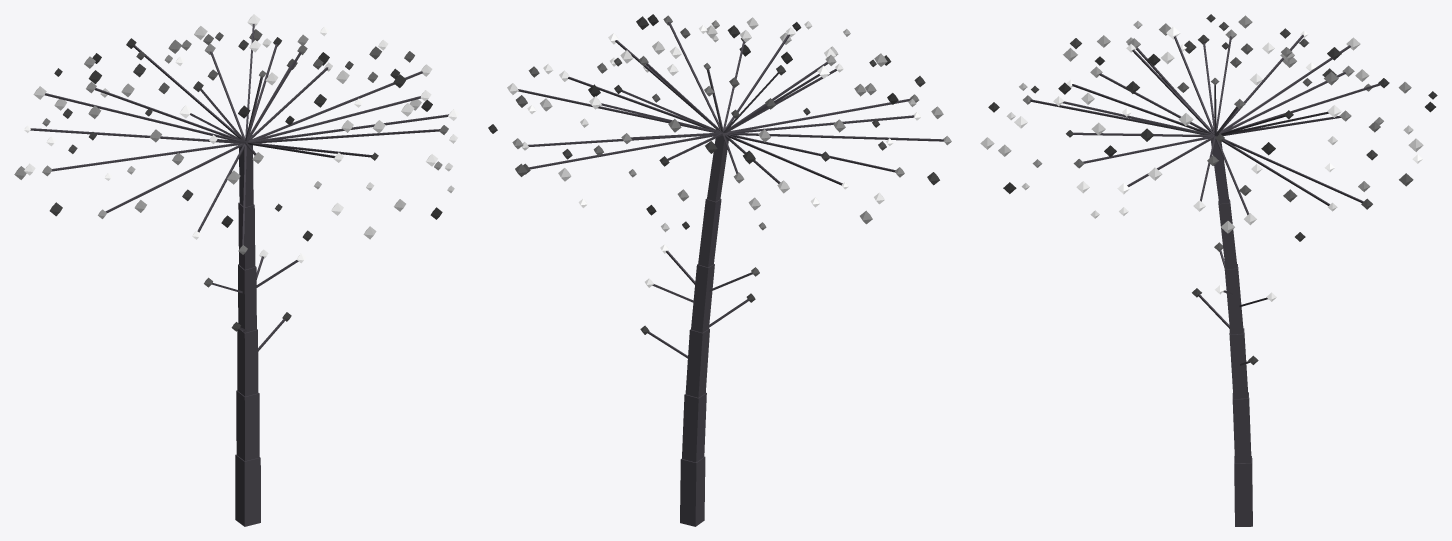
File: umbel_tree_b.glb
3 renders of one model, left to right at view 1: azimuth 30°, elevation 25°; view 2: azimuth 150°, elevation 25°; view 3: azimuth 270°, elevation 25°, orthographic. The views are drawn at different scales.
Visible parts, largest first — view 1: umbel_tree_b; view 2: umbel_tree_b; view 3: umbel_tree_b.
Part boxes in pixels (<box>): umbel_tree_b: <box>14,14,459,526</box>; umbel_tree_b: <box>488,14,951,526</box>; umbel_tree_b: <box>980,14,1437,526</box>.
Size of the model in its own units: 7.72 by 8.58 by 7.66.
2 materials, 1 textured.
